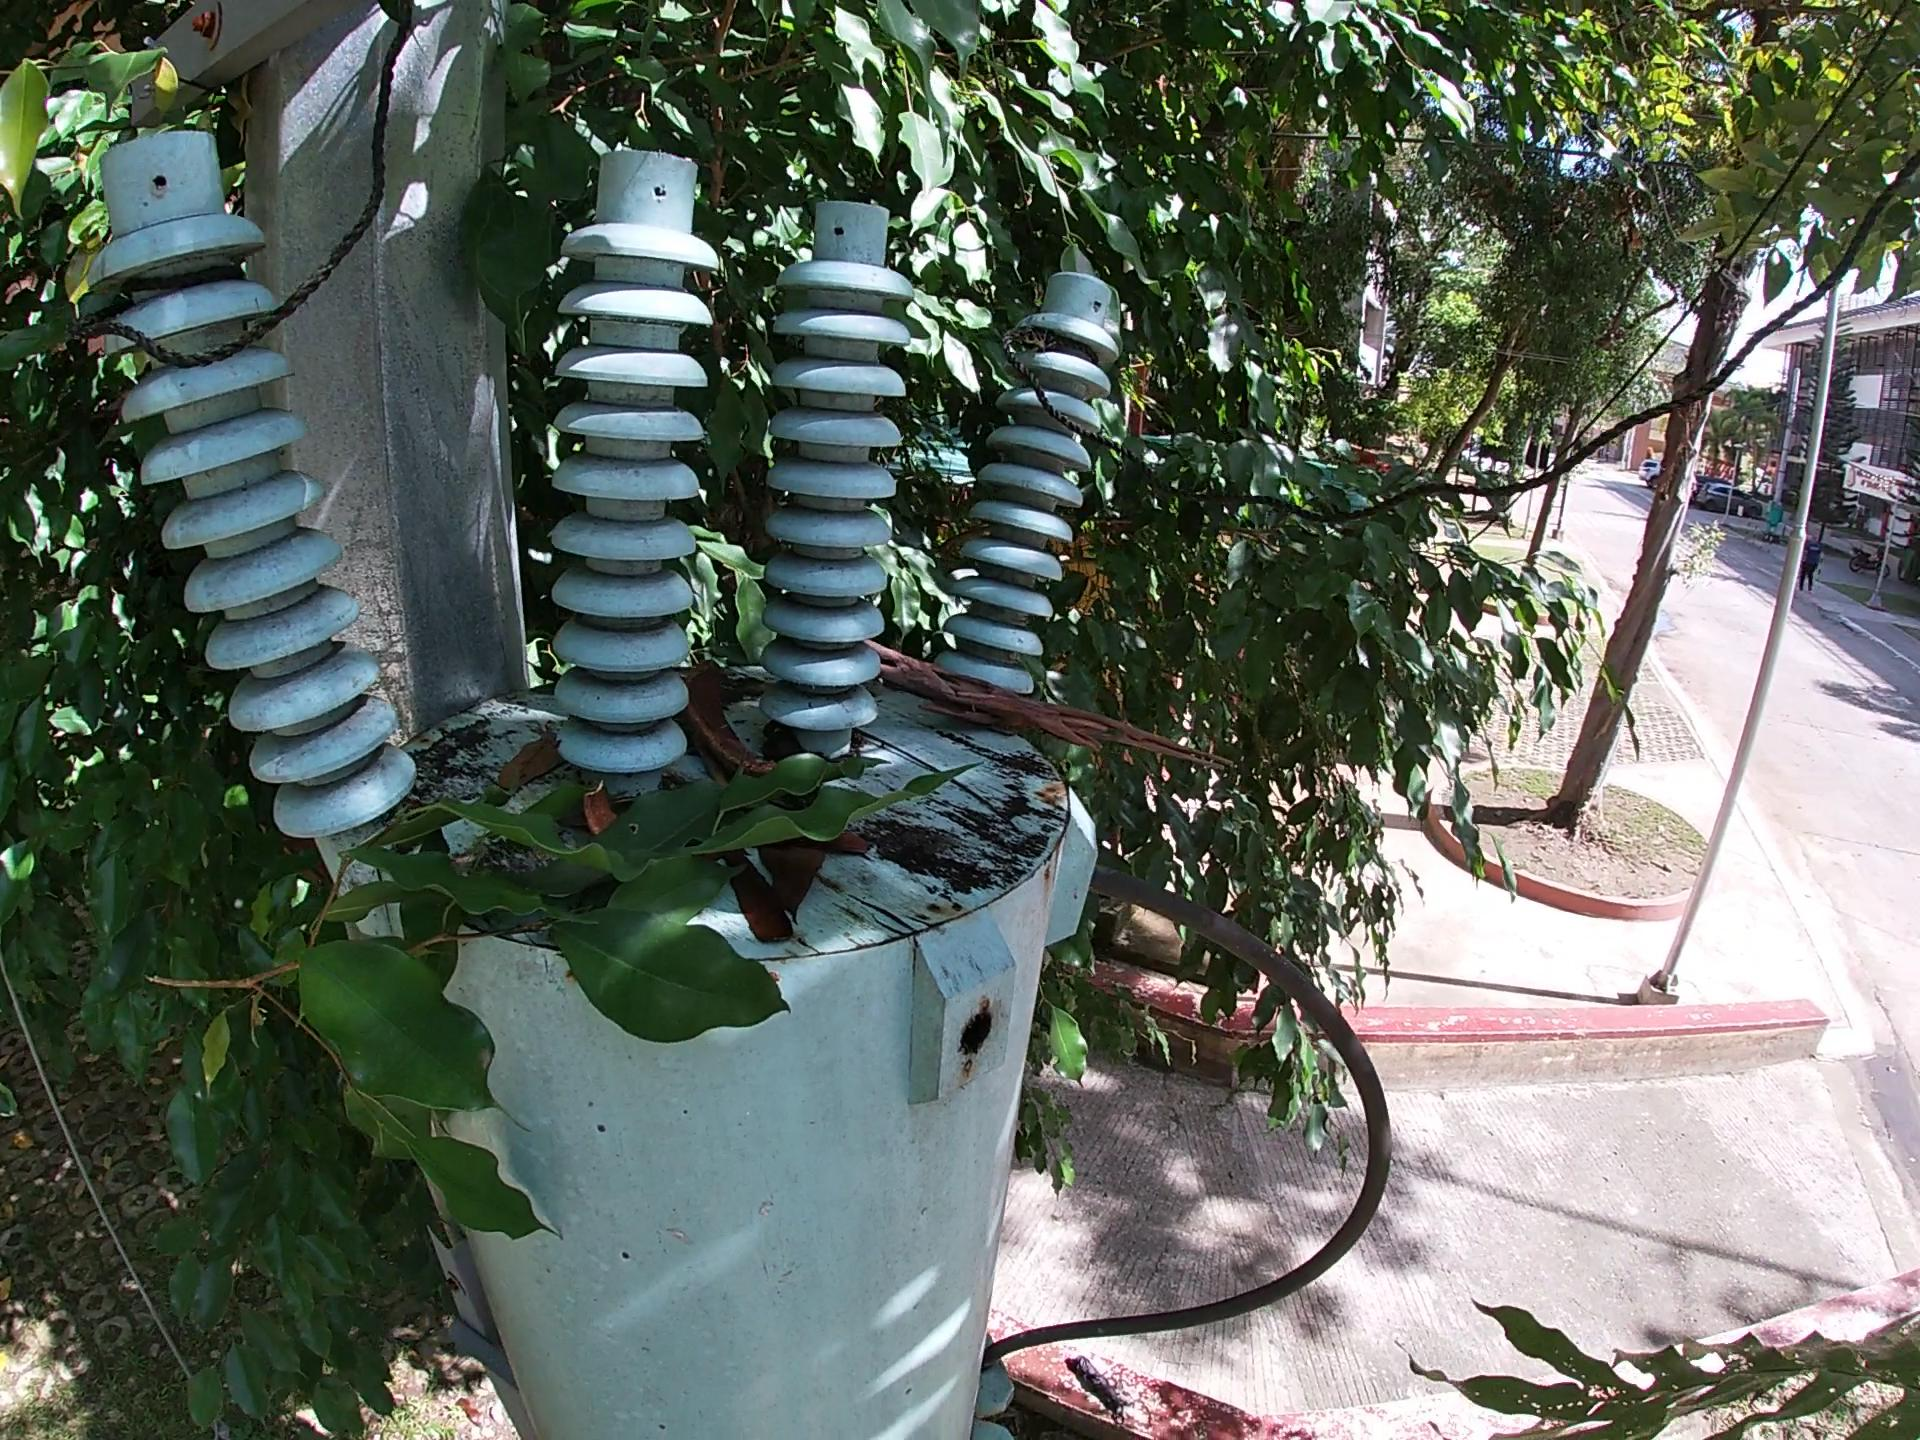branch with leaves: (132, 746, 998, 1246)
leaf: (717, 843, 794, 951), (753, 843, 835, 927), (494, 732, 570, 805), (810, 827, 881, 864)
mahogany fruit: (677, 659, 780, 785), (574, 781, 620, 832)
tree branch: (856, 637, 1241, 777)
